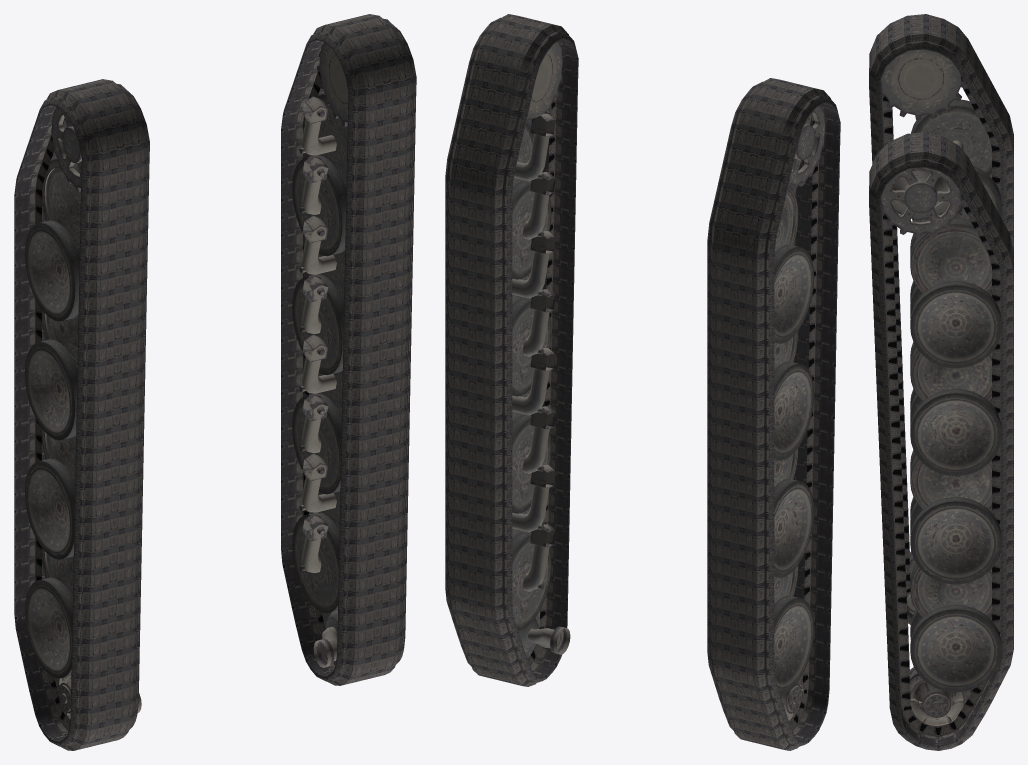
Rendered from Chassis.glb.
3 views of the same model, side by side, from view 1: azimuth 30°, elevation 25°; view 2: azimuth 150°, elevation 25°; view 3: azimuth 270°, elevation 25° (orthographic). The views are drawn at different scales.
Parts seen in each view (by area): view 1: set_1_group_0, set_0_group_0, set_3_group_0, set_2_group_0; view 2: set_1_group_0, set_0_group_0, set_3_group_0, set_2_group_0; view 3: set_3_group_0, set_0_group_0, set_1_group_0, set_2_group_0.
Boxes of the visible parts, <box> form: set_1_group_0: <box>14,79,149,750</box>; set_0_group_0: <box>281,14,416,685</box>; set_3_group_0: <box>292,42,348,667</box>; set_2_group_0: <box>24,107,141,721</box>; set_1_group_0: <box>707,78,840,750</box>; set_0_group_0: <box>445,14,578,686</box>; set_3_group_0: <box>512,42,570,658</box>; set_2_group_0: <box>774,105,825,722</box>; set_3_group_0: <box>881,167,1001,727</box>; set_0_group_0: <box>869,132,1013,750</box>; set_1_group_0: <box>869,14,1013,624</box>; set_2_group_0: <box>881,49,1001,614</box>.
Size of the model in its own units: 3.28 by 6.21 by 1.36.
4 materials, 4 textured.
